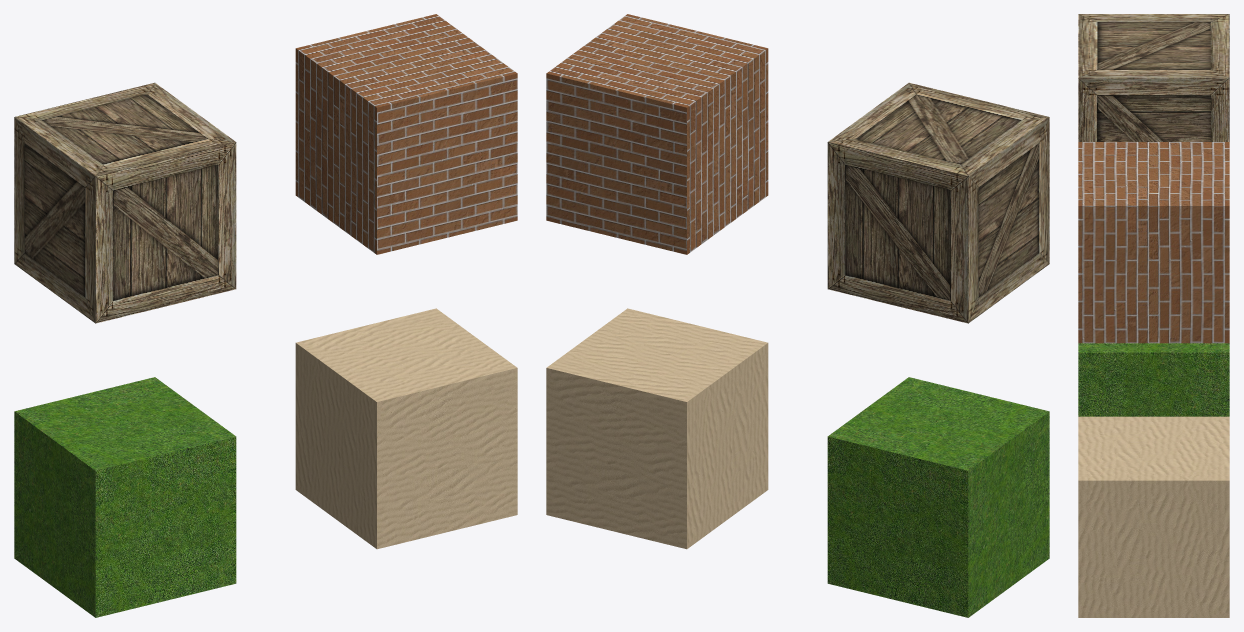
File: BoxTextured.gltf
The picture shows the model from 3 angles, left to right: view 1: azimuth 30°, elevation 25°; view 2: azimuth 150°, elevation 25°; view 3: azimuth 270°, elevation 25°; orthographic projection. The views are drawn at different scales.
Visible parts, largest first — view 1: box0, box1, box2, box3; view 2: box0, box1, box2, box3; view 3: box2, box3, box0, box1.
Part boxes in pixels (x1,y1,x2,y2): box0: [14, 82, 236, 323]; box1: [14, 377, 236, 617]; box2: [295, 308, 517, 549]; box3: [295, 14, 517, 254]; box0: [827, 82, 1049, 323]; box1: [827, 377, 1049, 617]; box2: [546, 308, 768, 549]; box3: [546, 14, 768, 254]; box2: [1078, 416, 1229, 617]; box3: [1078, 142, 1229, 343]; box0: [1078, 14, 1229, 141]; box1: [1078, 343, 1229, 416].
Size of the model in its own units: 3 by 3 by 1.
4 materials, 4 textured.
